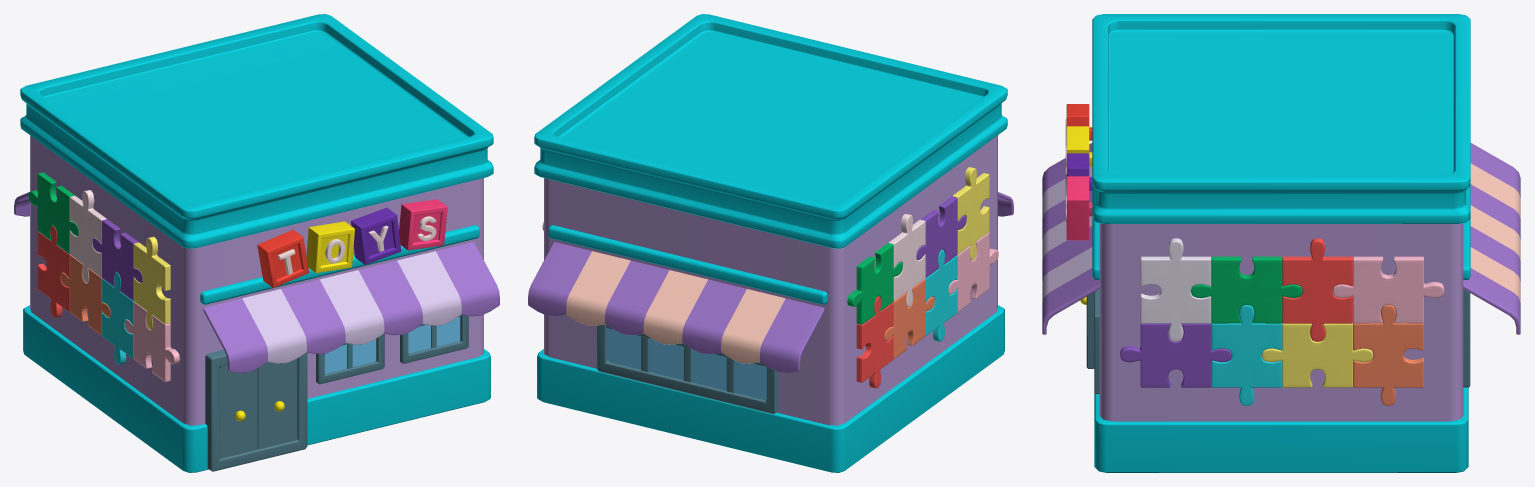
Rendered from Store_9_Toy_Shop_1.glb.
3 views of the same model, side by side, from view 1: azimuth 30°, elevation 25°; view 2: azimuth 150°, elevation 25°; view 3: azimuth 270°, elevation 25° (orthographic). The views are drawn at different scales.
Visible parts, largest first — view 1: Store_9_Toy_Shop_1; view 2: Store_9_Toy_Shop_1; view 3: Store_9_Toy_Shop_1.
Part boxes in pixels (x1,y1,x2,y2): Store_9_Toy_Shop_1: [14, 14, 499, 472]; Store_9_Toy_Shop_1: [528, 14, 1013, 472]; Store_9_Toy_Shop_1: [1042, 14, 1520, 472].
Bounding box in the file's own units: 8.15 × 6.62 × 9.79.
Materials: 1 (1 with a texture image).
